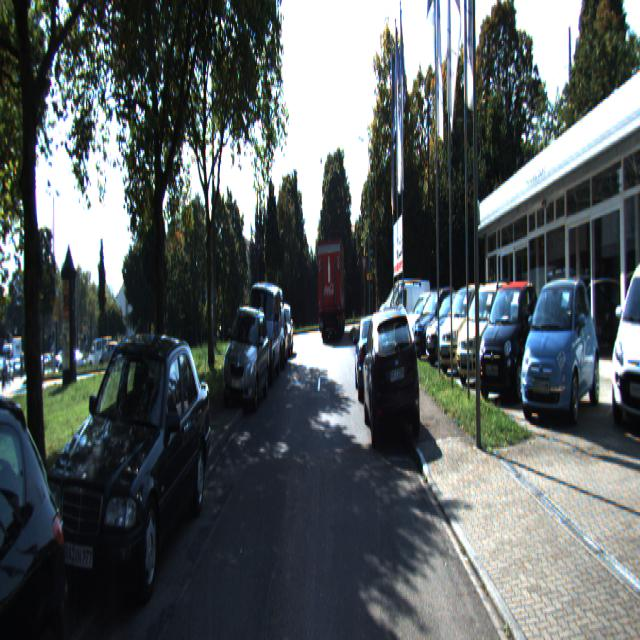Car: (38, 323, 212, 632), (0, 350, 80, 638), (519, 274, 601, 427), (362, 296, 422, 450), (477, 277, 545, 407), (454, 278, 520, 384), (436, 279, 499, 375), (609, 248, 640, 436), (220, 304, 270, 416), (420, 289, 482, 368), (245, 281, 283, 388), (353, 308, 391, 399), (316, 239, 347, 343), (381, 280, 426, 346)
